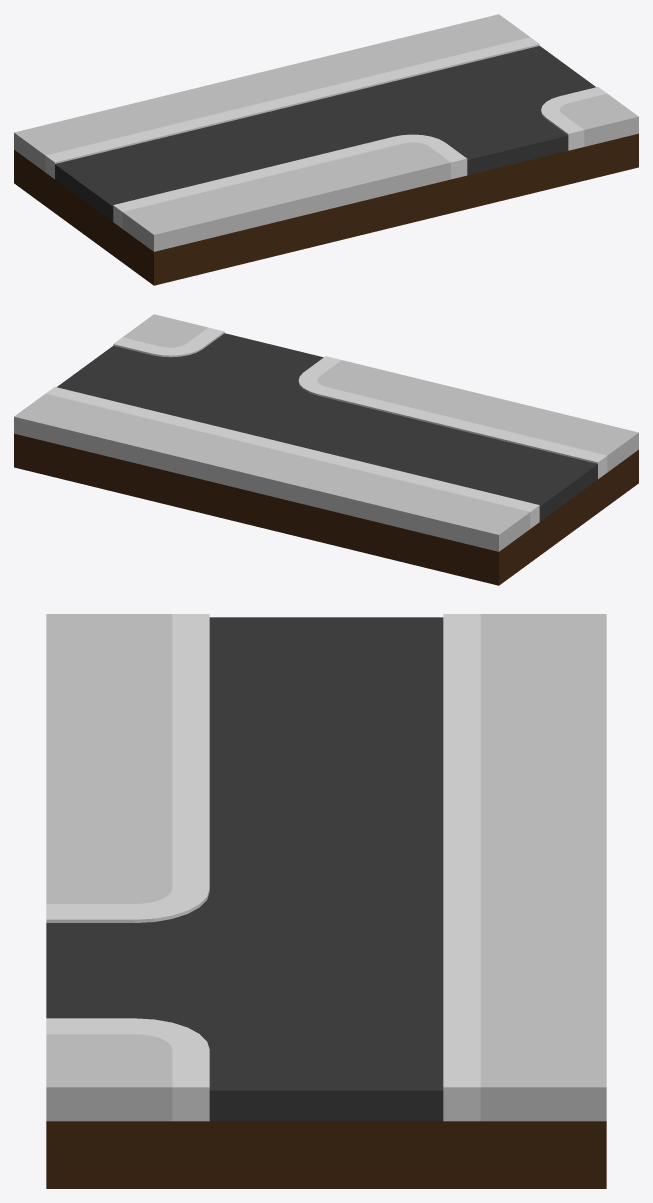
File: Duong 1.fbx
3 views of the same model, one above another, from view 1: azimuth 30°, elevation 25°; view 2: azimuth 150°, elevation 25°; view 3: azimuth 270°, elevation 25° (orthographic). The views are drawn at different scales.
Parts seen in each view (by area): view 1: tile_mainroad_straight.006, tile_mainroad_intersection_t; view 2: tile_mainroad_straight.006, tile_mainroad_intersection_t; view 3: tile_mainroad_intersection_t, tile_mainroad_straight.006.
Boxes of the visible parts, x1,y1,x2,y2 form: tile_mainroad_straight.006: [14, 73, 396, 285]; tile_mainroad_intersection_t: [257, 14, 638, 226]; tile_mainroad_straight.006: [256, 373, 638, 585]; tile_mainroad_intersection_t: [14, 314, 395, 526]; tile_mainroad_intersection_t: [46, 850, 606, 1188]; tile_mainroad_straight.006: [46, 614, 606, 853].
Bounding box in the file's own units: 1200 × 120 × 600.
